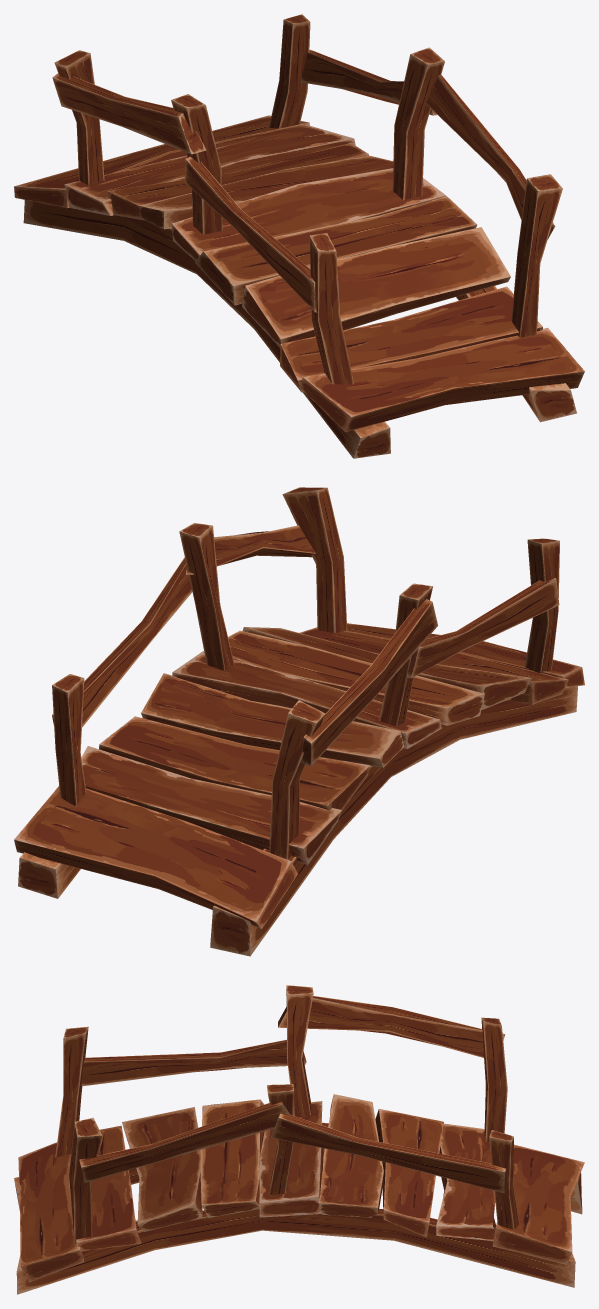
The model's file is SM_PROP_bridge_wood_04.fbx.
The picture shows the model from 3 angles, top to bottom: view 1: azimuth 30°, elevation 25°; view 2: azimuth 150°, elevation 25°; view 3: azimuth 270°, elevation 25°; orthographic projection. The views are drawn at different scales.
Parts seen in each view (by area): view 1: SM_PROP_bridge_wood_04; view 2: SM_PROP_bridge_wood_04; view 3: SM_PROP_bridge_wood_04.
Boxes of the visible parts, x1=… form: SM_PROP_bridge_wood_04: x1=14, y1=14, x2=584, y2=458; SM_PROP_bridge_wood_04: x1=14, y1=487, x2=584, y2=956; SM_PROP_bridge_wood_04: x1=14, y1=985, x2=584, y2=1294.
Size of what is drawn, in the model's own units: 202 by 177 by 429.
